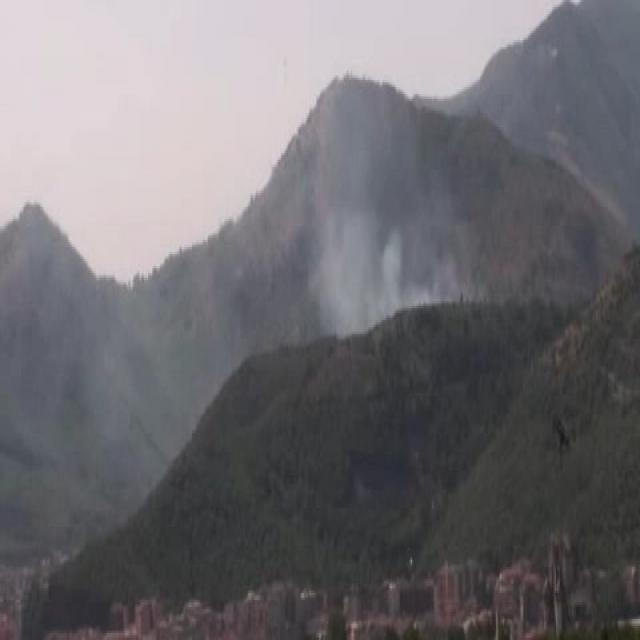smoke: (308, 111, 449, 335)
